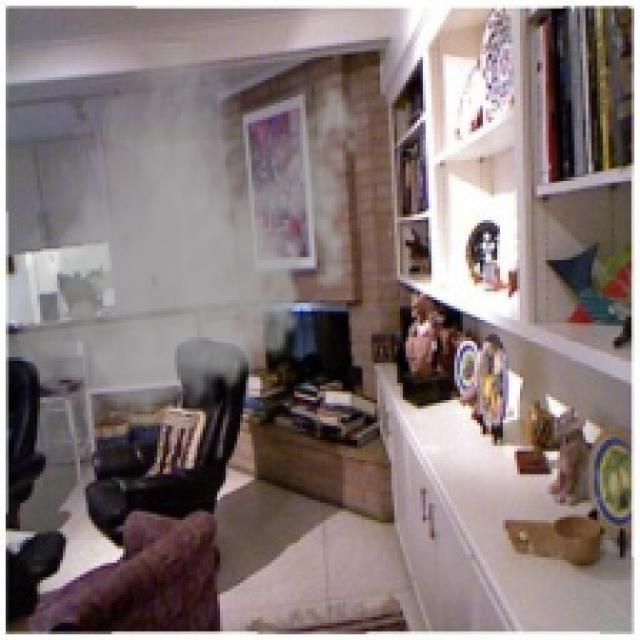Smoke: (6, 37, 372, 443)
